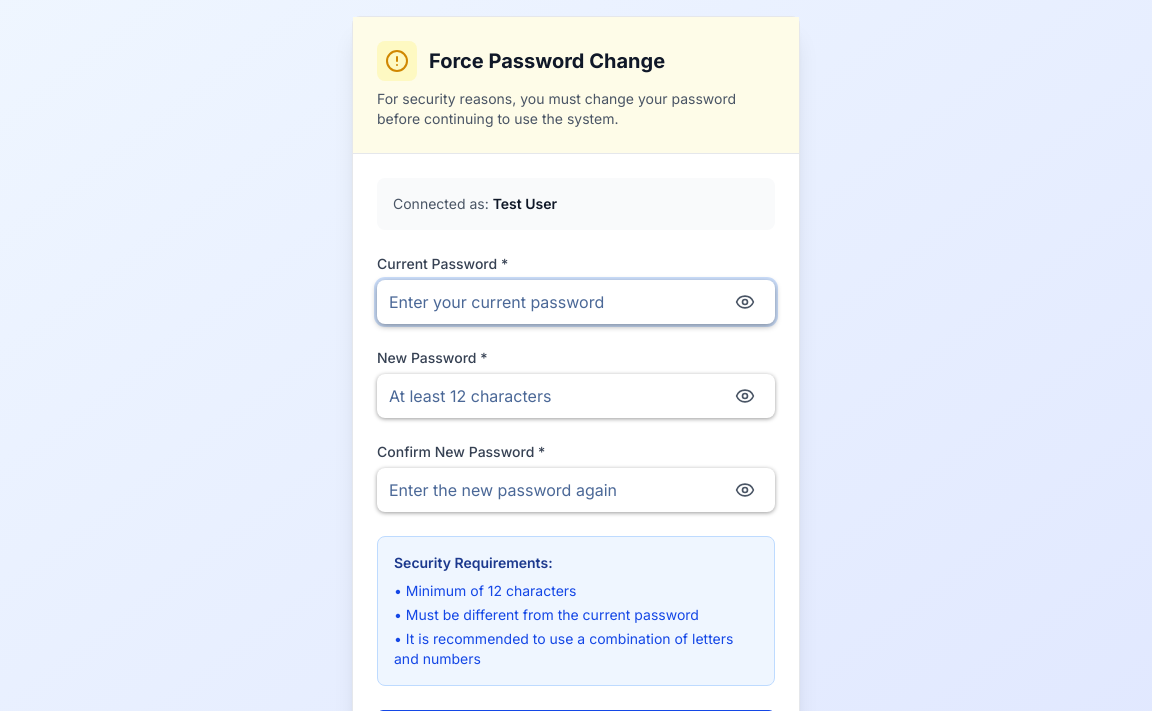
Test: ForcePasswordChangePage › Password change form › should show error when new password is too short
This screenshot has width=1152, height=711.
Type "current123" into the password field with placeholder "Enter your current password" at point(576, 302), box top-left (377, 280), bottom-right (775, 324)
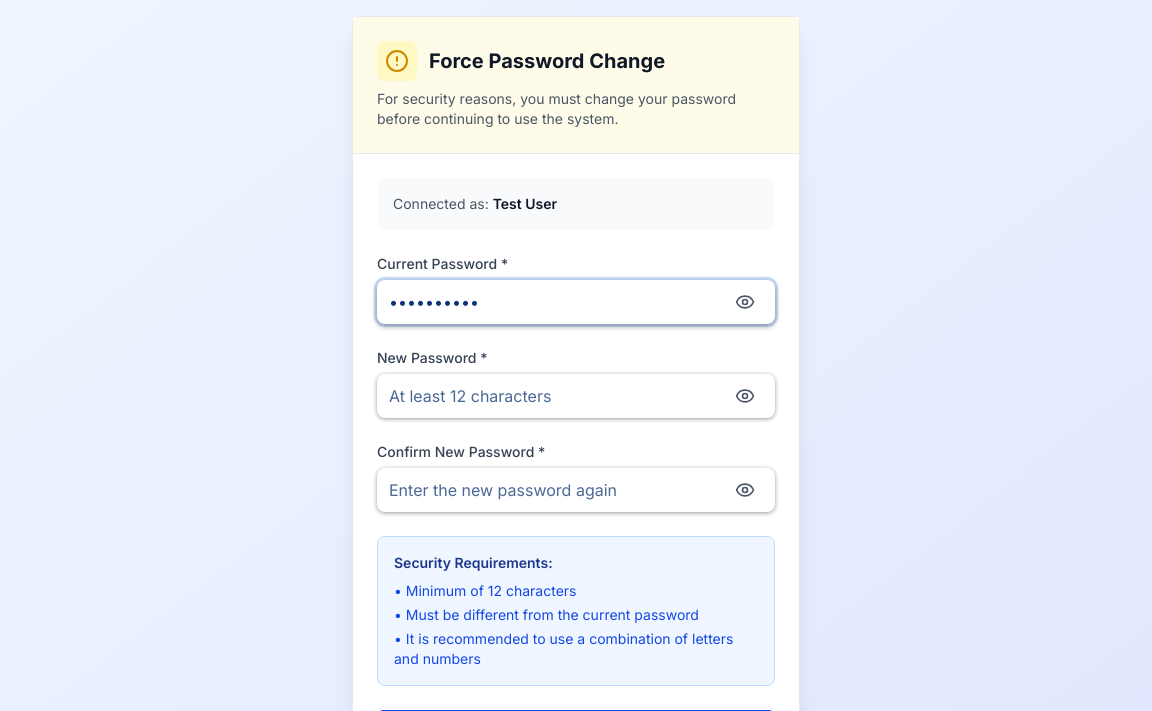
Type "short" into the password field with placeholder "At least 12 characters" at point(576, 396), box top-left (377, 374), bottom-right (775, 418)
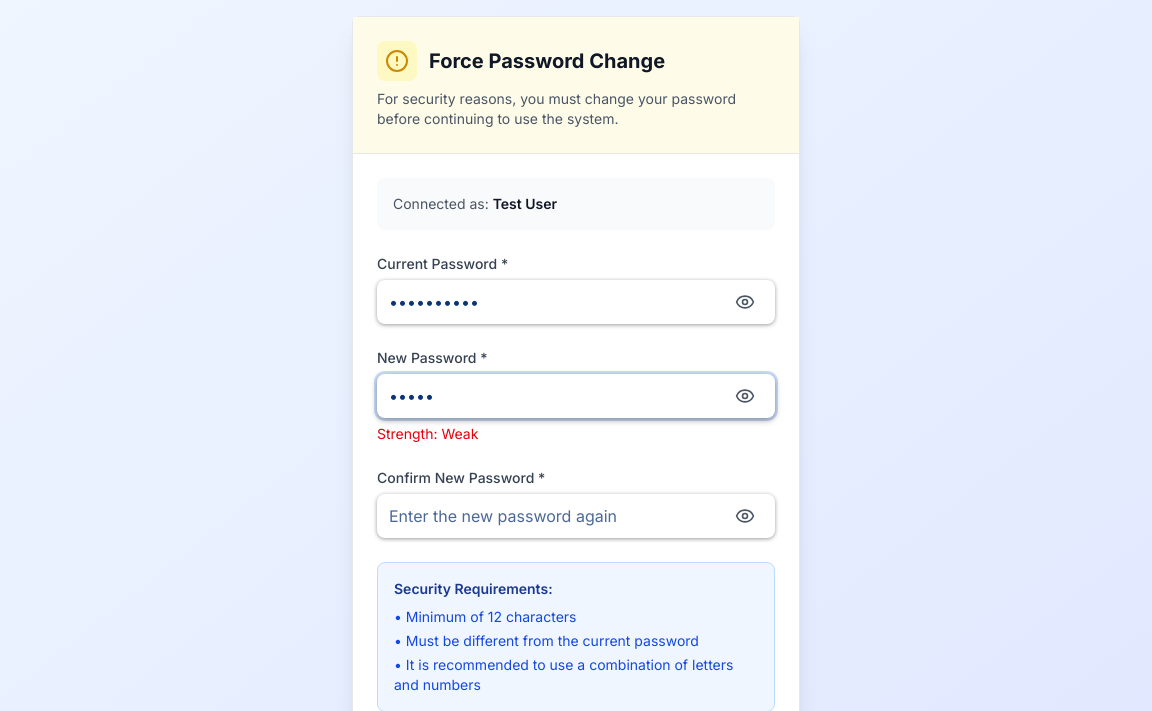
Type "short" into the password field with placeholder "Enter the new password again" at point(576, 516), box top-left (377, 494), bottom-right (775, 538)
(page scrolled)
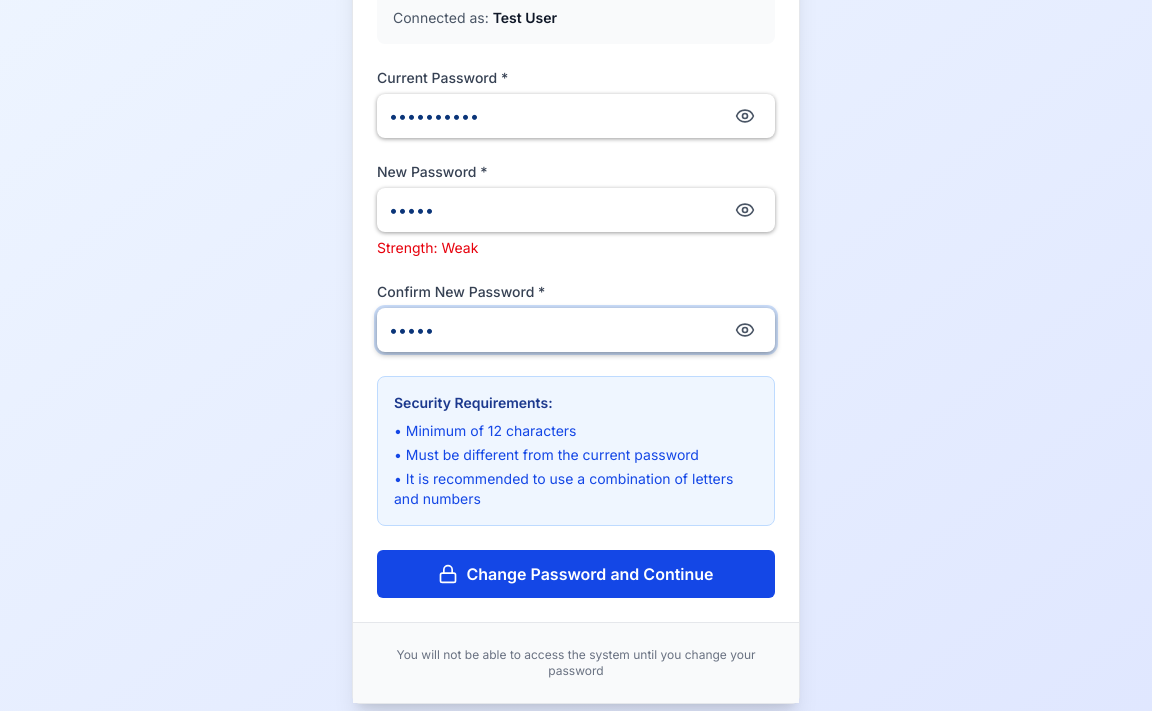
Click the button "Change Password and Continue" at point(576, 574), box top-left (377, 550), bottom-right (775, 598)
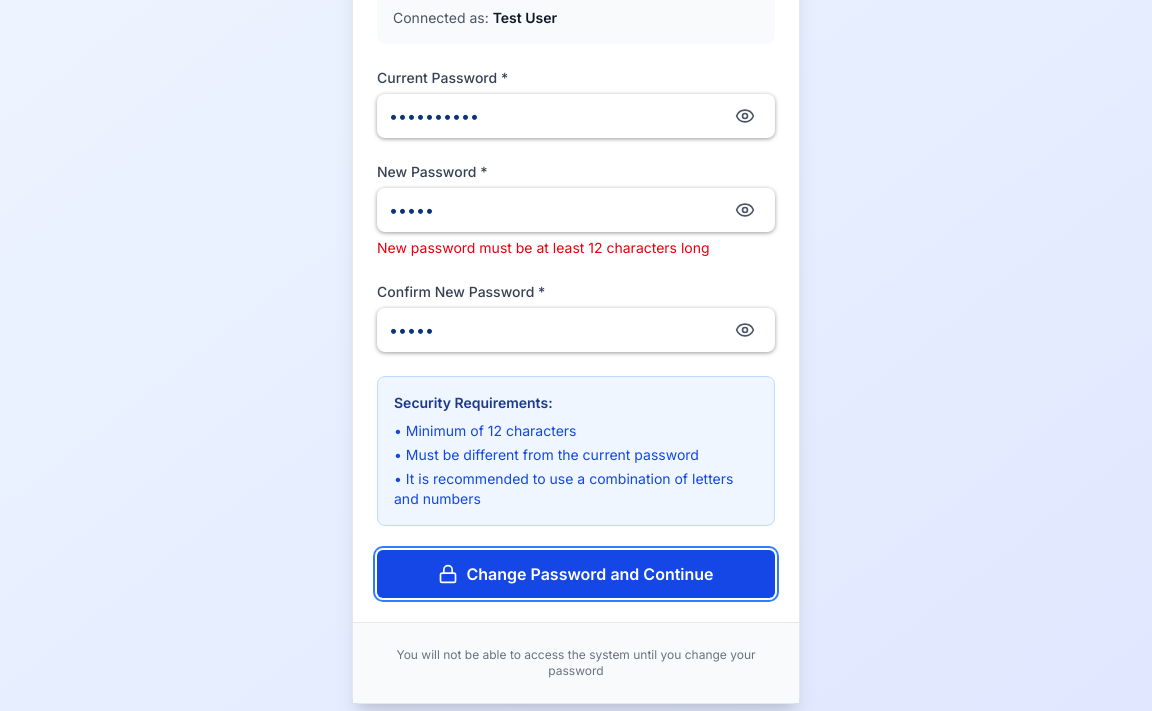
Expected: the text "New password must be at least 12 characters long" is shown, top-left (377, 239), bottom-right (710, 256)
